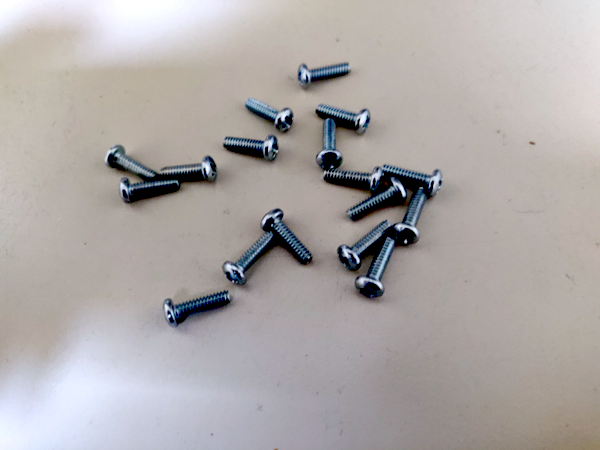shortscrew: (259, 208, 313, 266), (223, 231, 275, 285), (337, 220, 392, 271), (347, 177, 407, 222), (355, 237, 398, 298), (163, 290, 231, 328), (392, 186, 427, 245), (104, 144, 158, 181), (384, 164, 444, 197), (315, 103, 371, 135), (245, 98, 294, 133), (159, 155, 218, 183), (119, 177, 180, 204), (323, 167, 384, 193), (298, 62, 352, 89), (317, 118, 344, 170), (224, 135, 279, 160)
